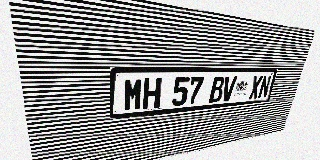5: (171, 77, 190, 107)
7: (186, 77, 204, 105)
B: (209, 76, 225, 103)
H: (142, 77, 162, 110)
M: (123, 78, 143, 111)
N: (257, 75, 272, 98)
V: (221, 76, 237, 102)
X: (248, 76, 263, 99)
